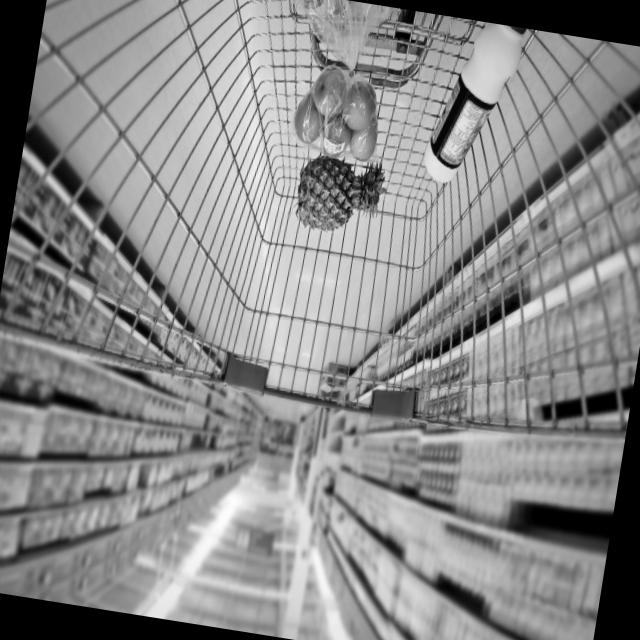dua: (289, 150, 392, 242)
sua: (419, 16, 525, 196)
tao: (288, 60, 387, 164)
